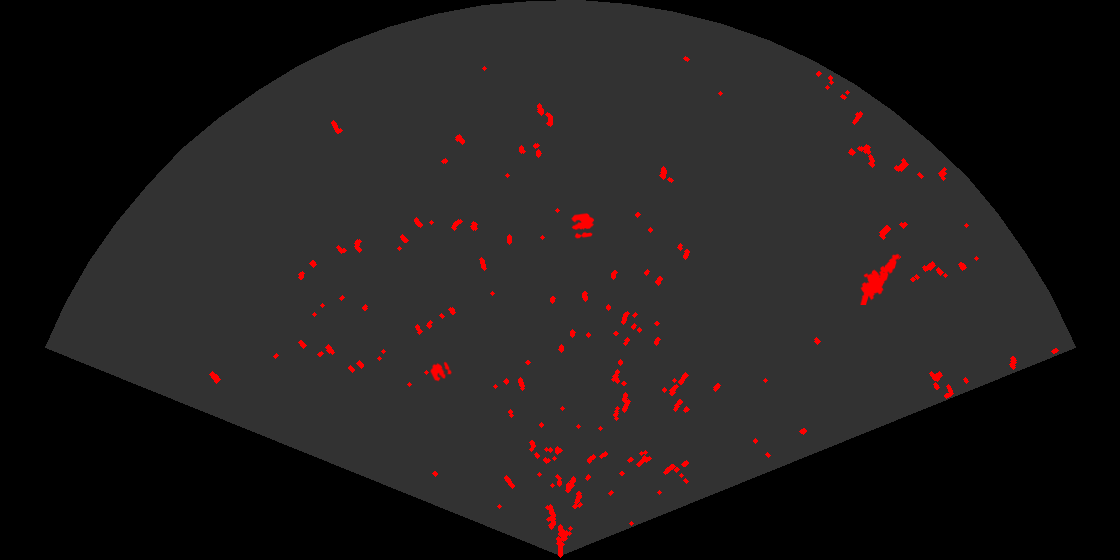ball: (569, 212, 596, 240), (428, 360, 454, 383)
frogman: (859, 252, 901, 305)
